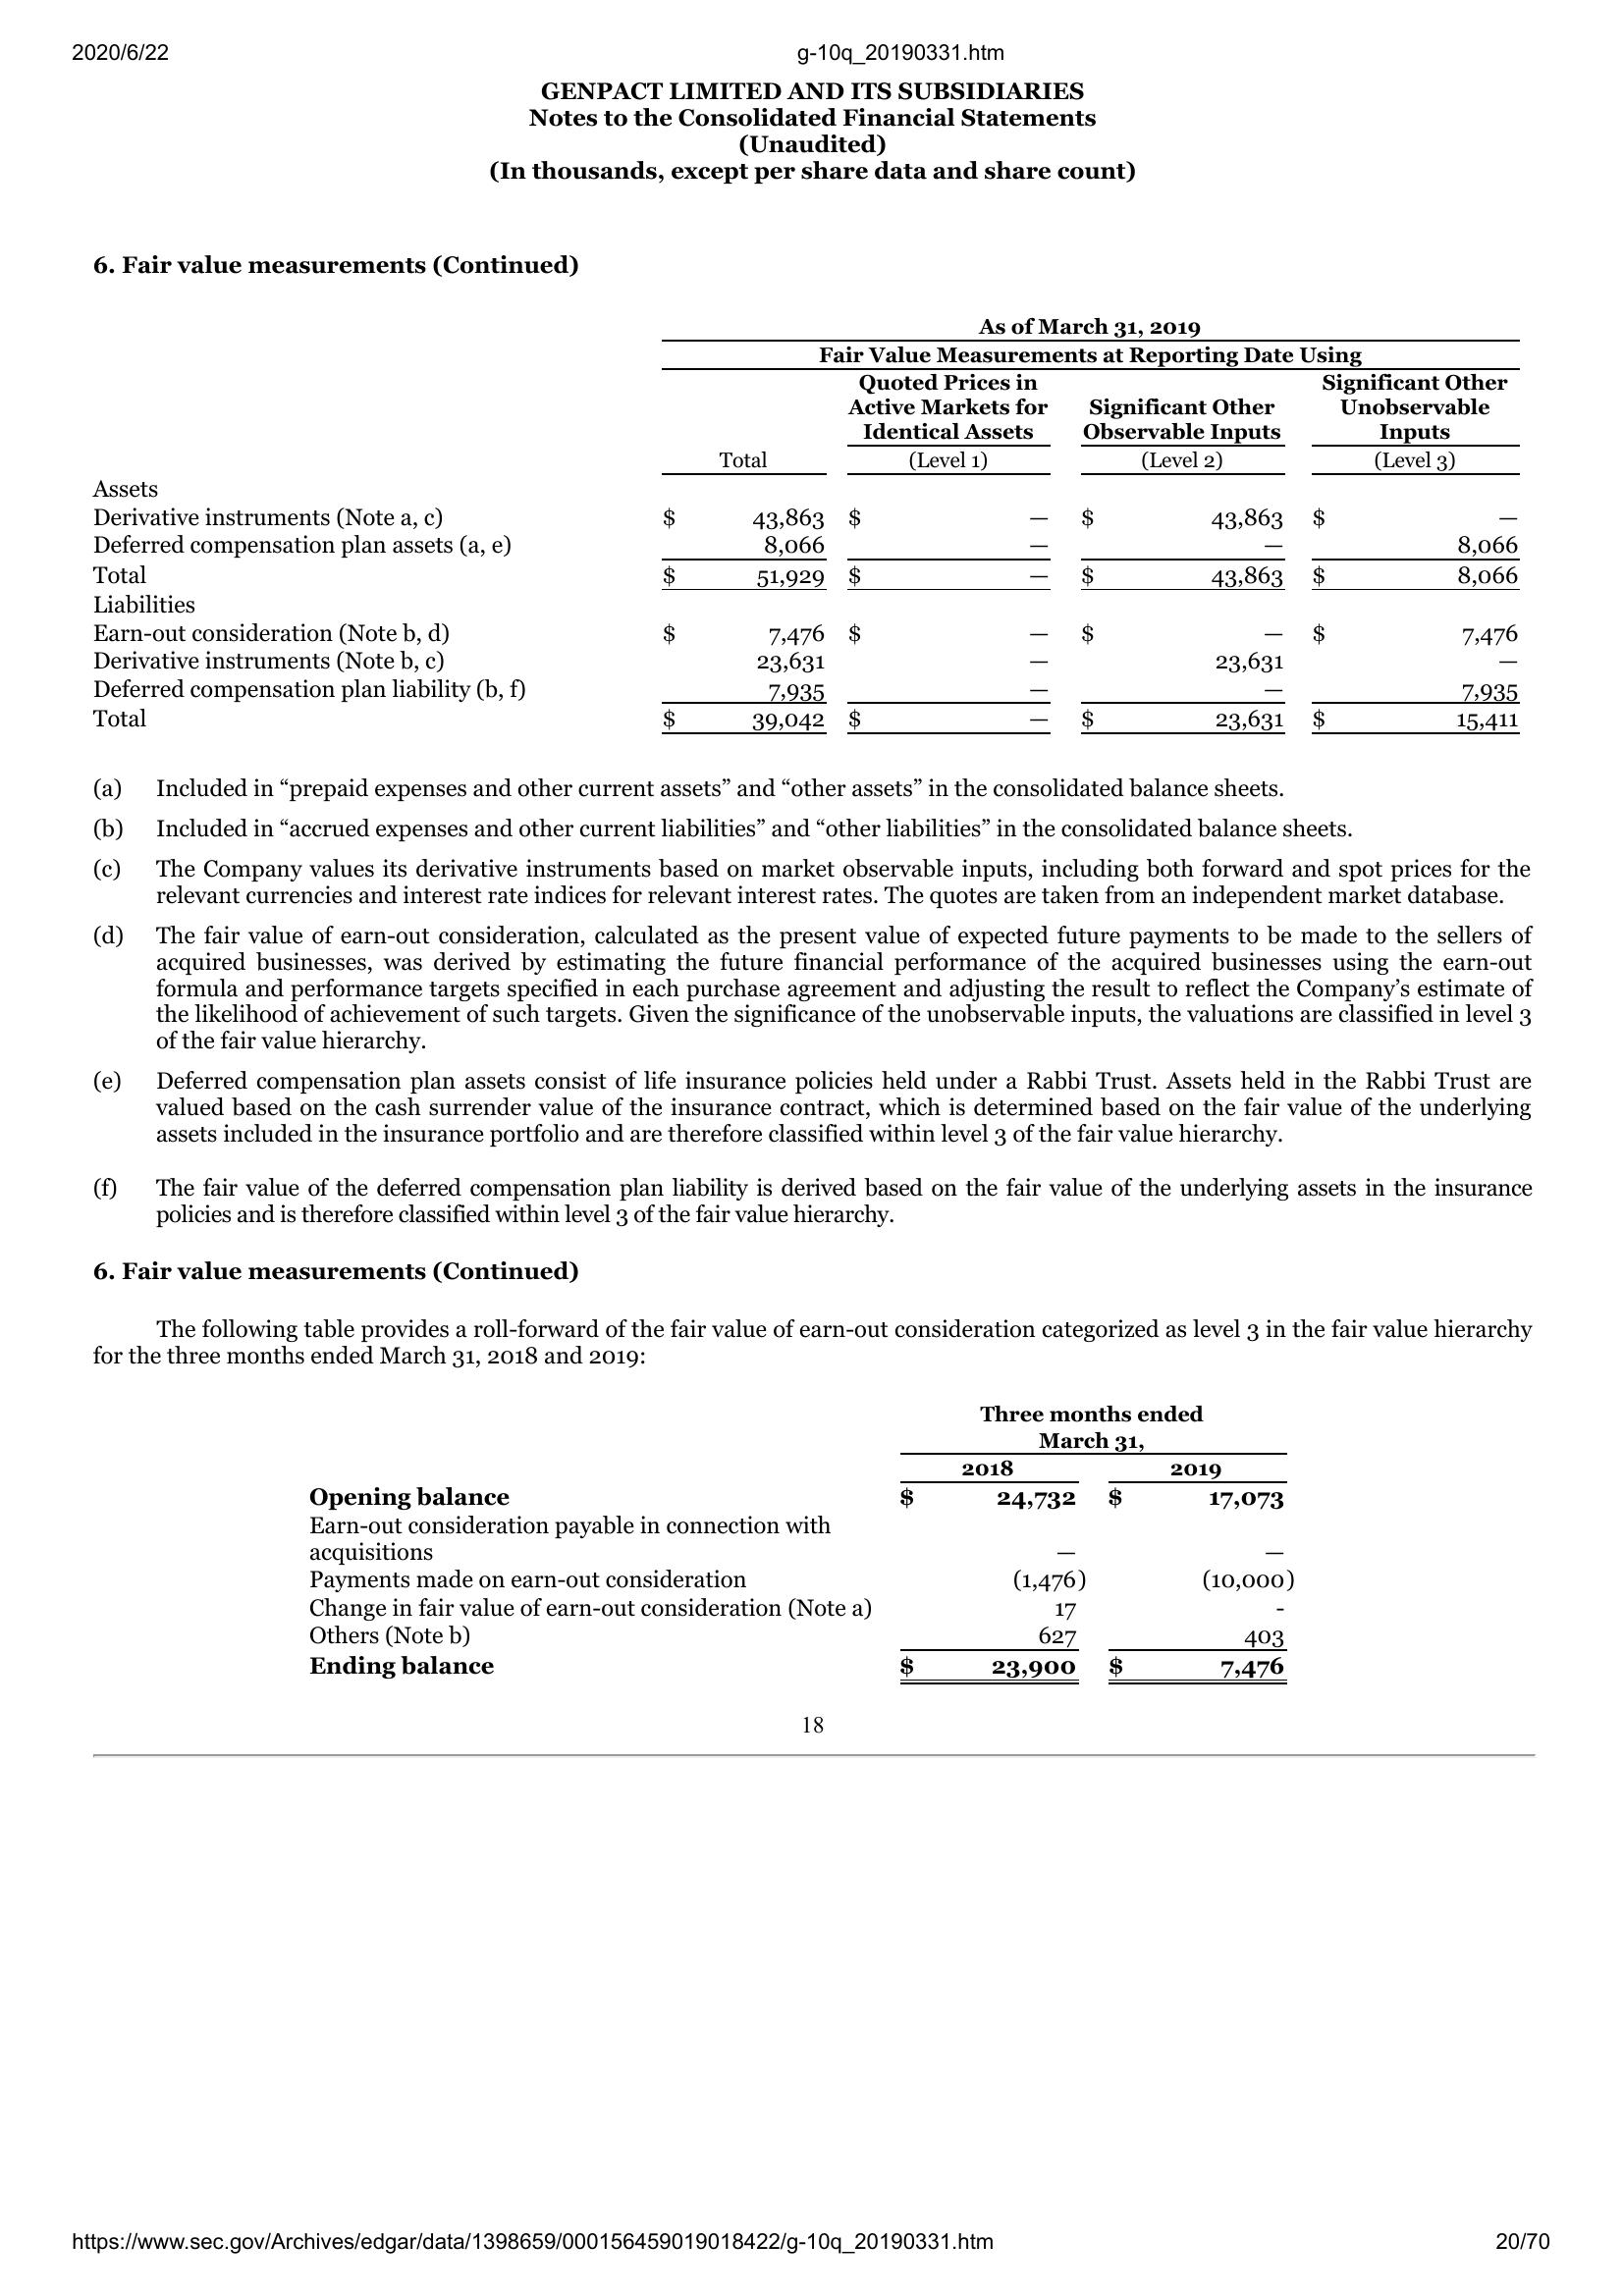table: (88, 309, 1533, 741), (300, 1388, 1310, 1704)
